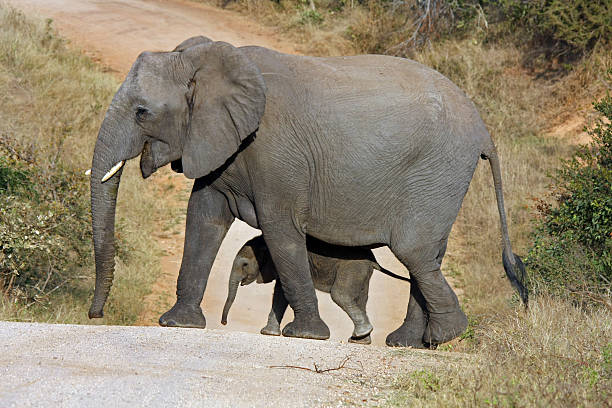africanelephant: (68, 37, 267, 203)
